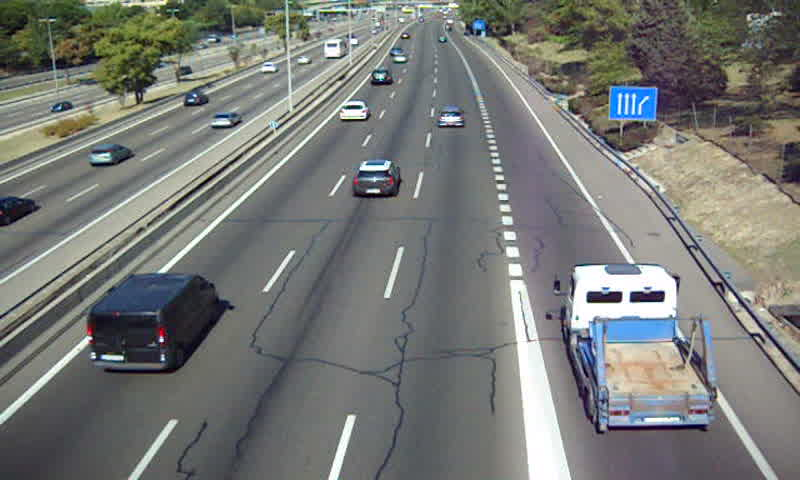car: (352, 159, 401, 198), (337, 102, 368, 122), (437, 107, 465, 129), (369, 69, 392, 87), (391, 53, 409, 66)
small-truck: (566, 263, 718, 433)
van: (80, 274, 217, 374)
